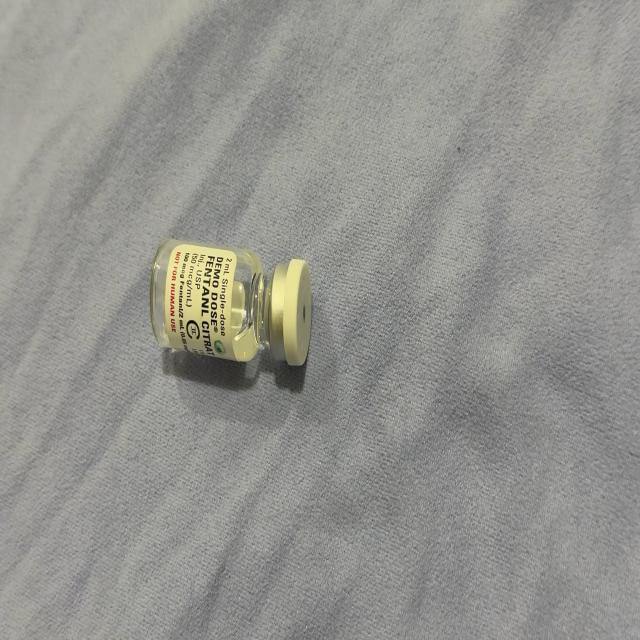fentanl_citrat: (153, 240, 309, 366)
